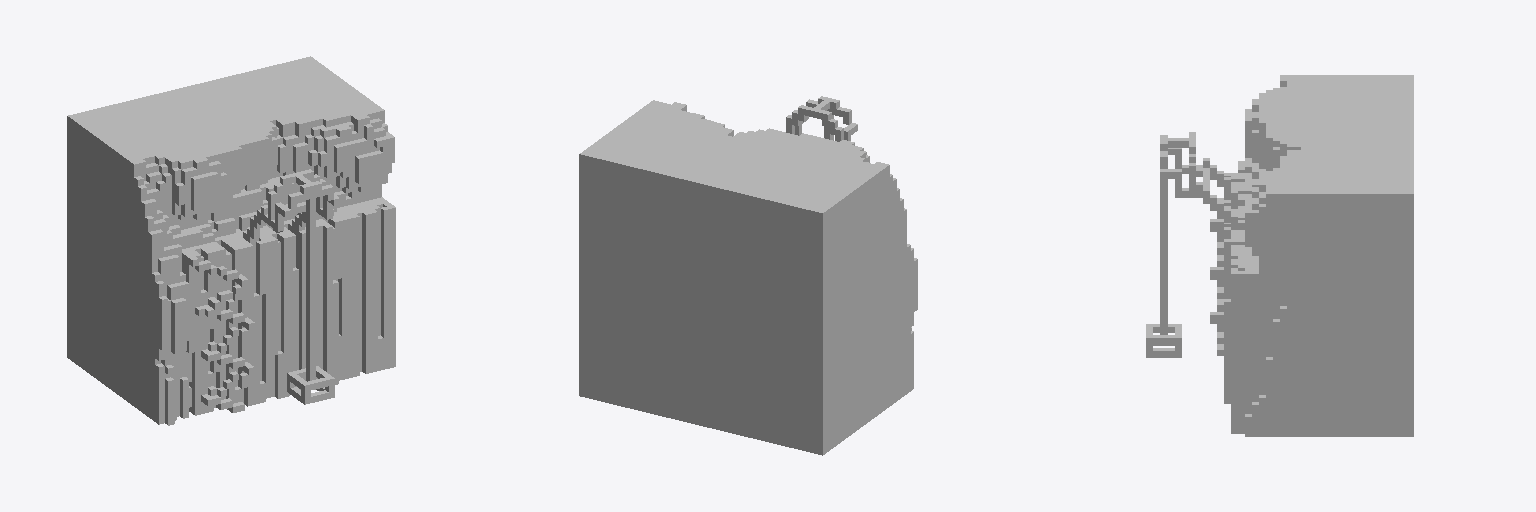
Rendered from snow4.obj.
3 views of the same model, side by side, from view 1: azimuth 30°, elevation 25°; view 2: azimuth 150°, elevation 25°; view 3: azimuth 270°, elevation 25° (orthographic).
Visible parts, largest first — view 1: object 1; view 2: object 1; view 3: object 1.
Part boxes in pixels (left/top/right/bottom): object 1: left=67, top=56, right=395, bottom=425; object 1: left=579, top=96, right=917, bottom=455; object 1: left=1146, top=75, right=1413, bottom=436.
Bounding box in the file's own units: 4 × 3.8 × 3.8.